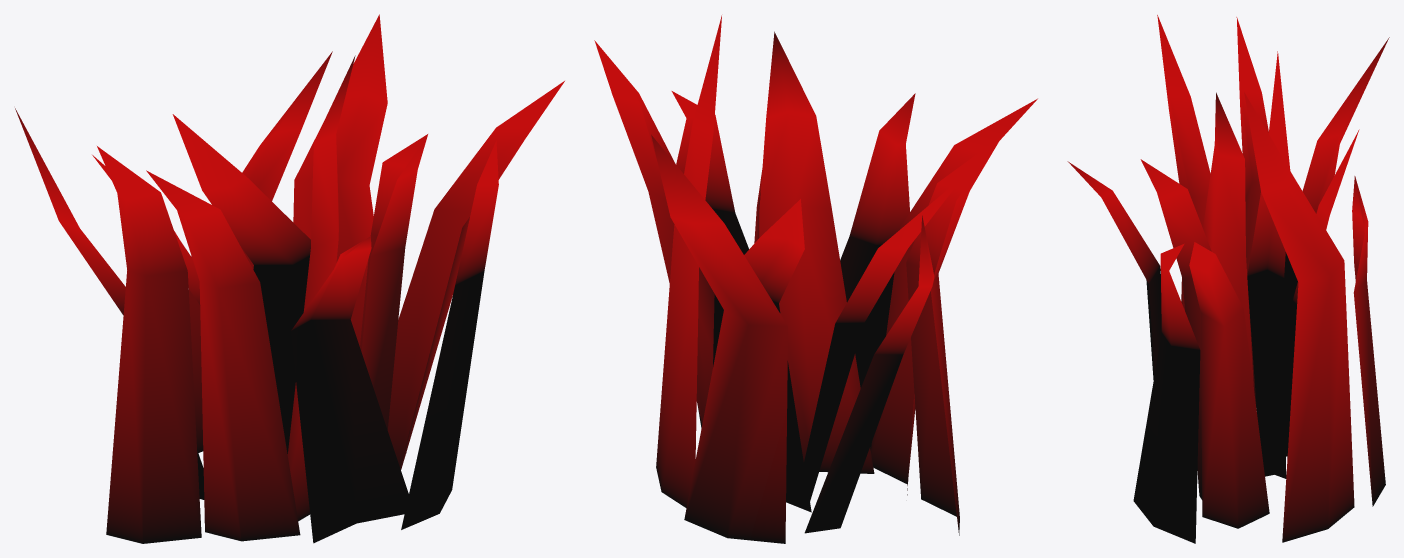
File: SM_Grass_03.fbx
The picture shows the model from 3 angles, left to right: view 1: azimuth 30°, elevation 25°; view 2: azimuth 150°, elevation 25°; view 3: azimuth 270°, elevation 25°; orthographic projection. The views are drawn at different scales.
Visible parts, largest first — view 1: SM_Grass_03; view 2: SM_Grass_03; view 3: SM_Grass_03.
Boxes of the visible parts, x1,y1,x2,y2 form: SM_Grass_03: (15, 14, 564, 543); SM_Grass_03: (594, 15, 1037, 543); SM_Grass_03: (1067, 15, 1389, 543).
Size of the model in its own units: 60.18 by 60.43 by 40.85.
